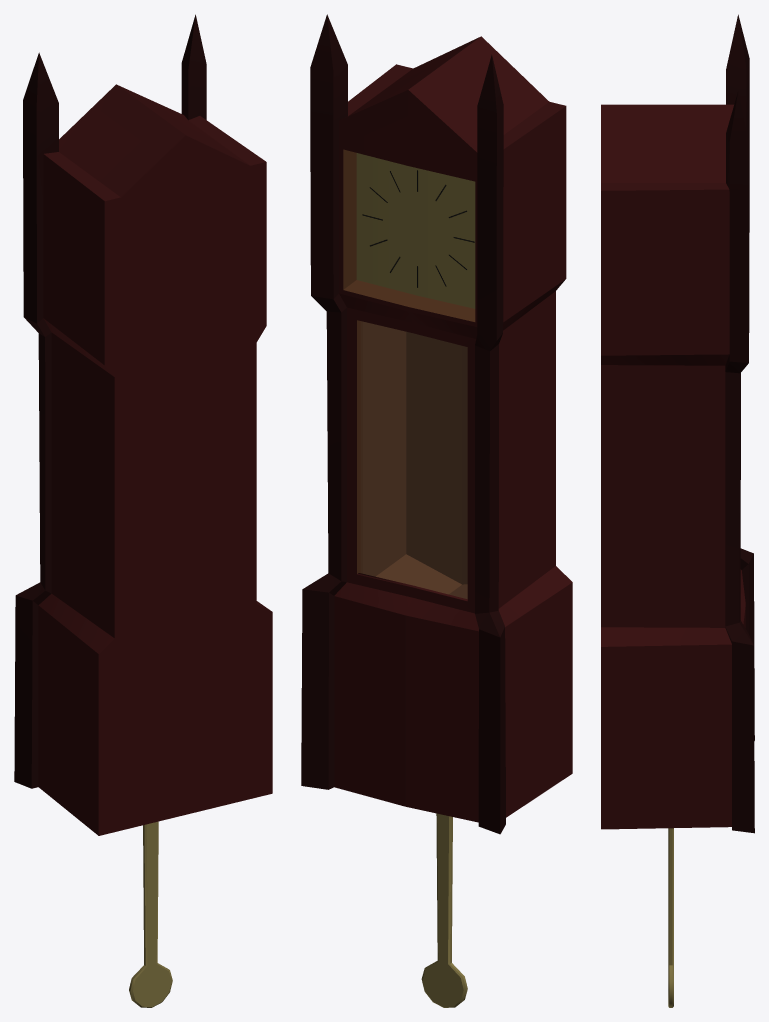
The model's file is Clocks.fbx.
3 views of the same model, side by side, from view 1: azimuth 30°, elevation 25°; view 2: azimuth 150°, elevation 25°; view 3: azimuth 270°, elevation 25° (orthographic). The views are drawn at different scales.
Parts seen in each view (by area): view 1: ClockBig01A-Main, ClockBig01A-Pendulum; view 2: ClockBig01A-Main, ClockBig01A-Pendulum; view 3: ClockBig01A-Main, ClockBig01A-Pendulum.
Boxes of the visible parts, x1=… form: ClockBig01A-Main: x1=14, y1=14, x2=272, y2=835; ClockBig01A-Pendulum: x1=129, y1=821, x2=172, y2=1007; ClockBig01A-Main: x1=301, y1=14, x2=572, y2=834; ClockBig01A-Pendulum: x1=421, y1=813, x2=467, y2=1007; ClockBig01A-Main: x1=601, y1=14, x2=754, y2=833; ClockBig01A-Pendulum: x1=668, y1=828, x2=673, y2=1007.
Bounding box in the file's own units: 0.4982 × 2.39 × 0.3489.
